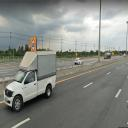speed_limit_120: (31, 37, 36, 51)
